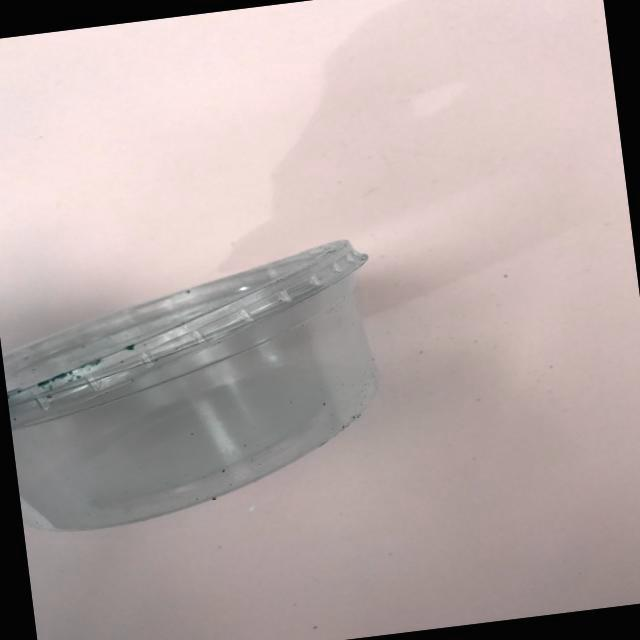plastic: (0, 208, 427, 553)
